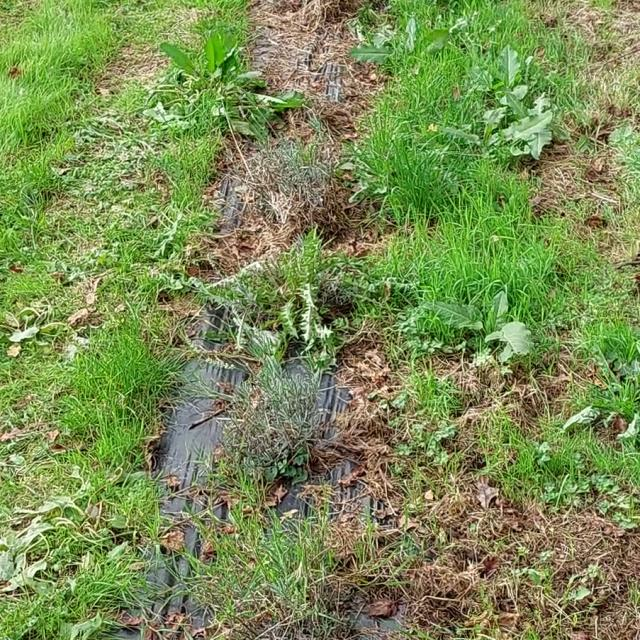organic waste: (4, 487, 109, 599), (429, 275, 553, 368), (148, 39, 267, 125), (426, 104, 551, 159), (459, 46, 555, 110), (350, 13, 454, 67), (504, 90, 585, 153), (11, 284, 67, 350)
